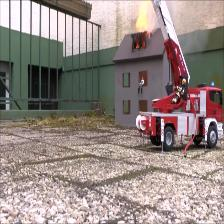fire: (131, 2, 150, 31)
